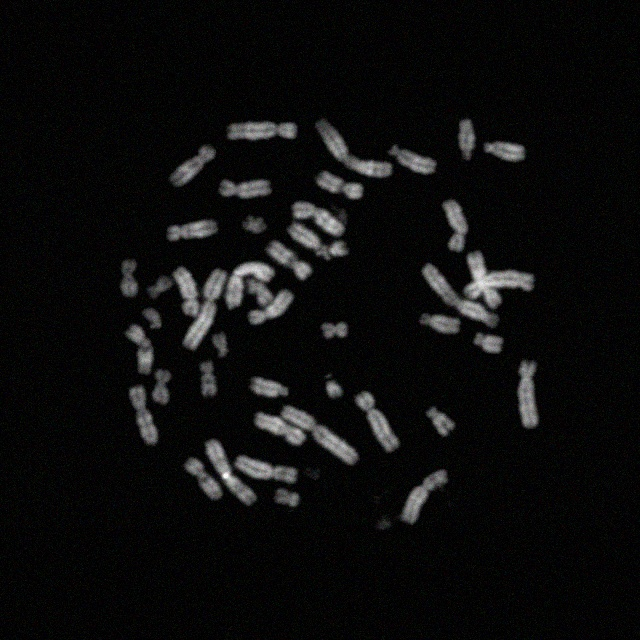chromosome: (421, 263, 499, 327), (280, 407, 360, 467), (314, 119, 392, 177), (184, 268, 228, 349), (204, 438, 256, 506), (354, 391, 402, 451), (402, 470, 448, 524), (224, 262, 274, 310), (290, 222, 352, 258), (468, 248, 502, 308), (172, 144, 218, 188), (126, 386, 158, 448), (466, 272, 534, 300), (236, 454, 298, 484), (256, 410, 304, 446), (292, 202, 344, 234), (246, 289, 292, 325), (516, 363, 540, 429), (390, 143, 438, 175), (228, 121, 297, 143), (442, 198, 470, 252), (268, 242, 310, 278), (126, 322, 154, 376), (185, 458, 221, 500), (175, 266, 200, 316), (166, 218, 218, 242), (318, 172, 362, 200), (220, 178, 272, 198), (250, 377, 288, 401), (419, 313, 459, 335), (484, 140, 524, 162), (428, 404, 454, 436), (197, 362, 218, 398), (246, 278, 272, 306), (120, 258, 138, 298), (153, 367, 173, 403), (458, 119, 474, 161), (146, 276, 172, 300), (474, 333, 502, 355), (322, 372, 343, 401), (321, 321, 347, 341), (142, 307, 164, 329), (211, 334, 231, 358), (274, 489, 300, 506), (241, 216, 264, 234)
